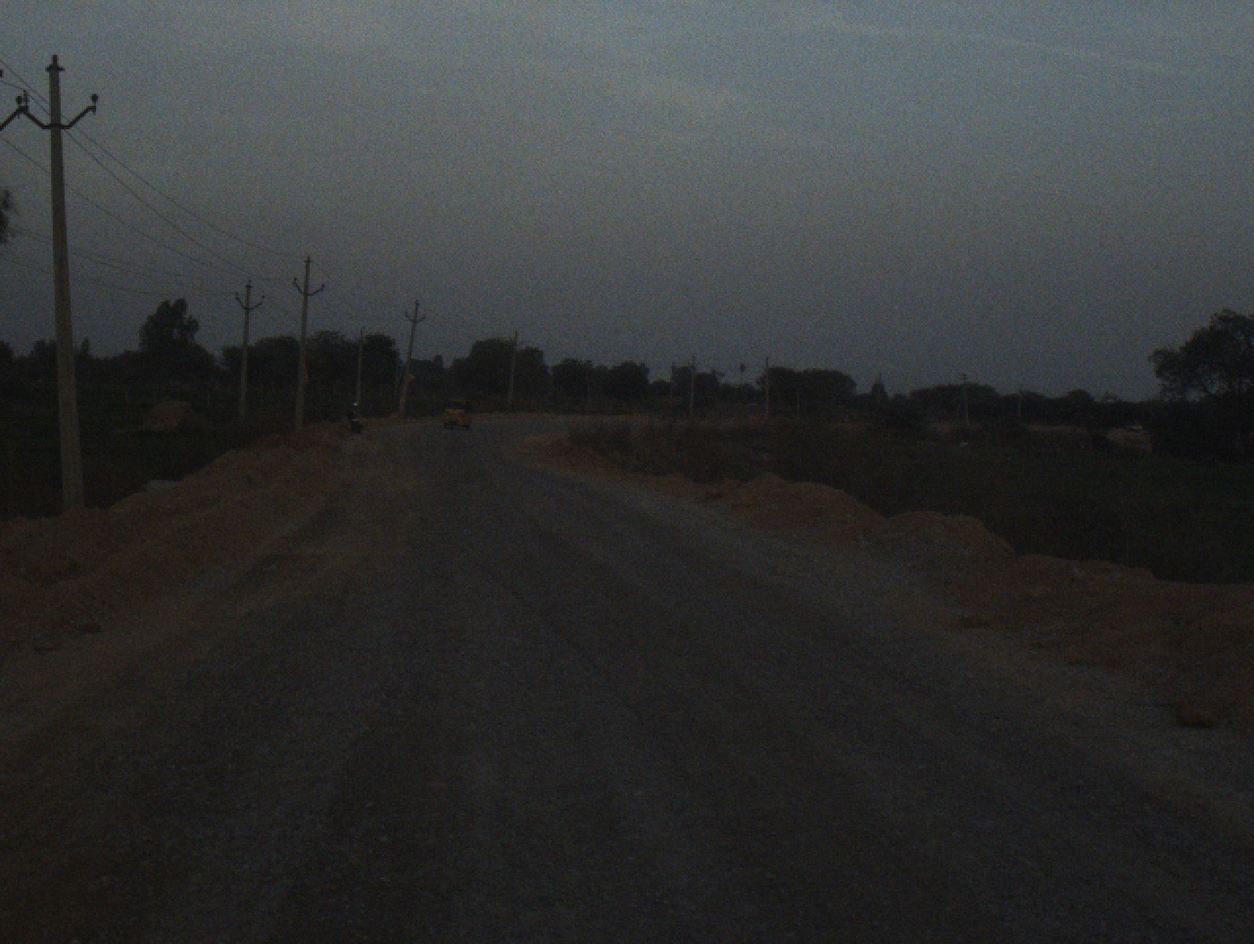autorickshaw: (436, 386, 477, 435)
motorcycle: (340, 397, 364, 433)
